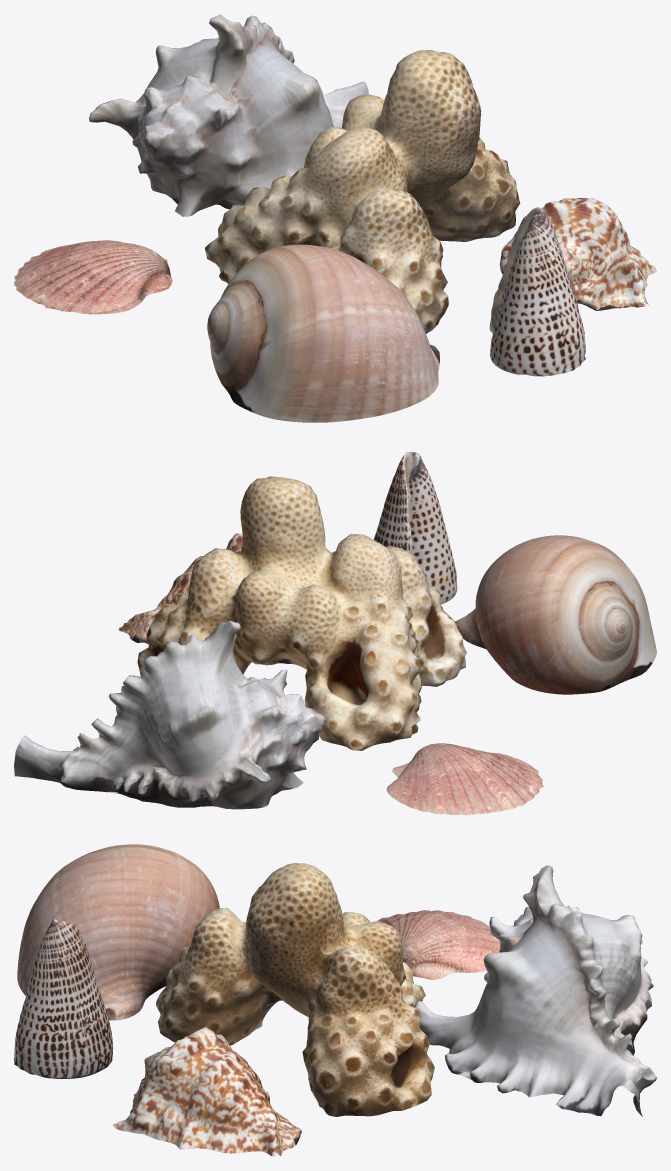
Rendered from shells.fbx.
The picture shows the model from 3 angles, top to bottom: view 1: azimuth 30°, elevation 25°; view 2: azimuth 150°, elevation 25°; view 3: azimuth 270°, elevation 25°; orthographic projection. The views are drawn at different scales.
Parts seen in each view (by area): view 1: Coral_Low, SNAIL_LOW, CONCH_LOW, CONESHELL_LOW, CLAM_LOW, HORNSHELL_LOW; view 2: Coral_Low, CONCH_LOW, SNAIL_LOW, CLAM_LOW, CONESHELL_LOW, HORNSHELL_LOW; view 3: Coral_Low, CONCH_LOW, SNAIL_LOW, HORNSHELL_LOW, CONESHELL_LOW, CLAM_LOW.
Part boxes in pixels (box(x1,y1,x2,y2)): Coral_Low: box(205, 50, 520, 333); SNAIL_LOW: box(207, 244, 439, 422); CONCH_LOW: box(89, 14, 368, 216); CONESHELL_LOW: box(489, 207, 585, 376); CLAM_LOW: box(14, 240, 172, 314); HORNSHELL_LOW: box(499, 198, 656, 310); Coral_Low: box(137, 476, 466, 750); CONCH_LOW: box(14, 620, 325, 809); SNAIL_LOW: box(455, 535, 656, 694); CLAM_LOW: box(386, 743, 543, 815); CONESHELL_LOW: box(373, 451, 457, 604); HORNSHELL_LOW: box(118, 533, 242, 643); Coral_Low: box(156, 863, 434, 1116); CONCH_LOW: box(414, 865, 656, 1116); SNAIL_LOW: box(17, 844, 219, 1020); HORNSHELL_LOW: box(113, 1026, 301, 1156); CONESHELL_LOW: box(14, 919, 113, 1078); CLAM_LOW: box(377, 910, 500, 979).
Bounding box in the file's own units: 69.42 × 27.12 × 77.67.
